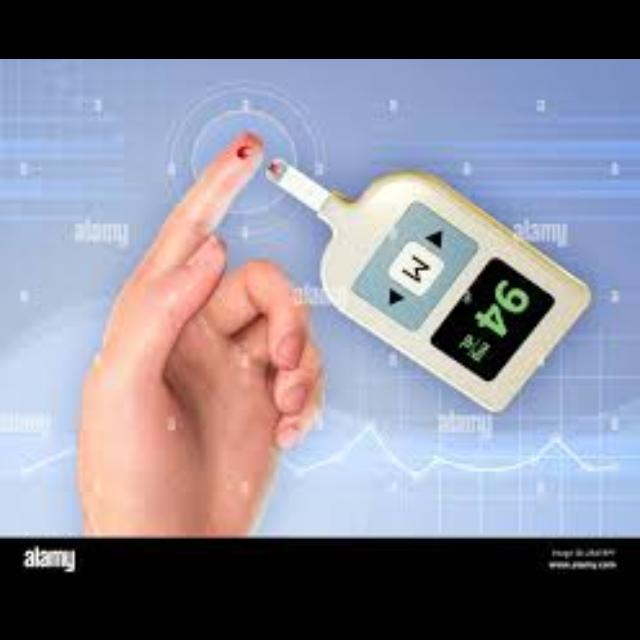Glucose-Meter: (268, 159, 588, 411)
